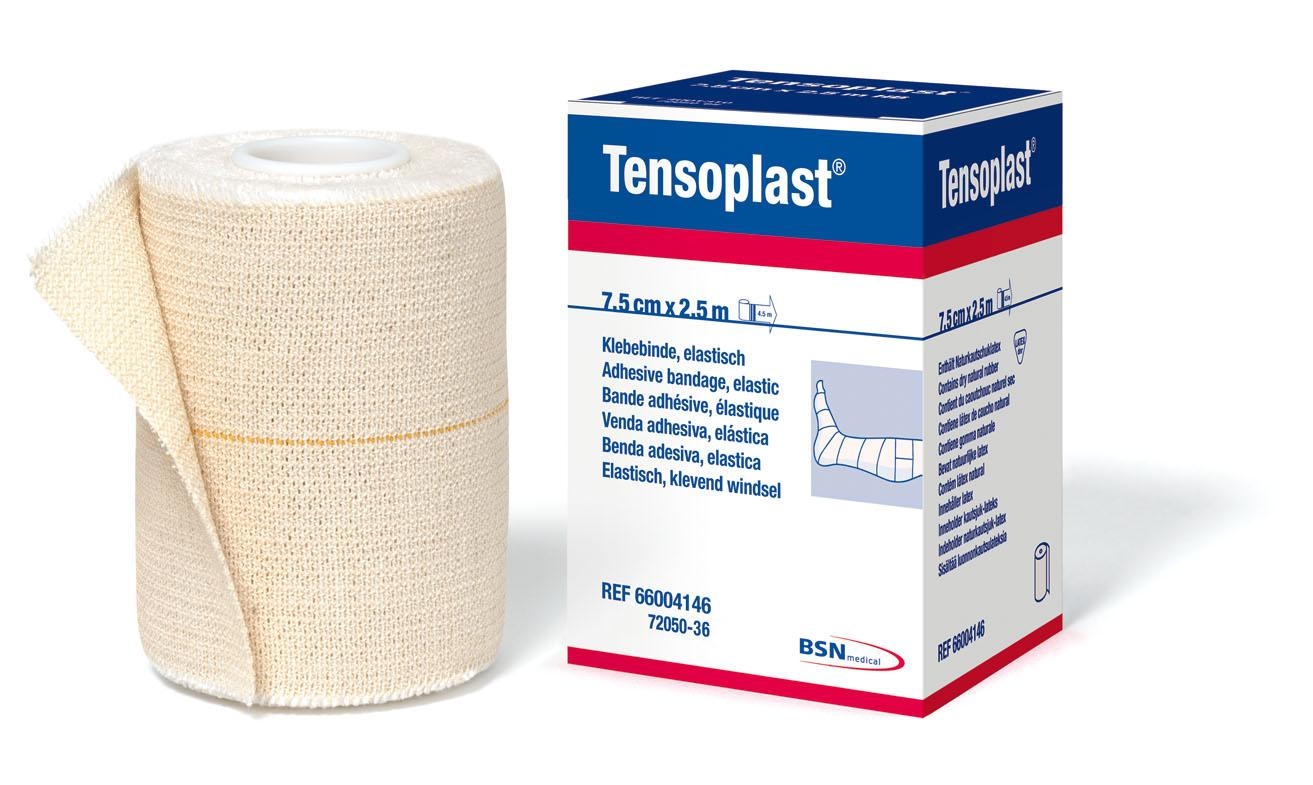bandage: (24, 125, 515, 711)
